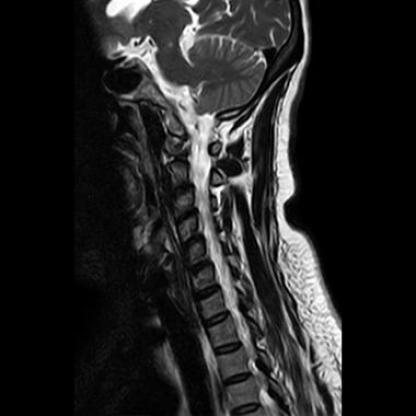Disc Bulgerotation: (188, 255, 213, 274)
